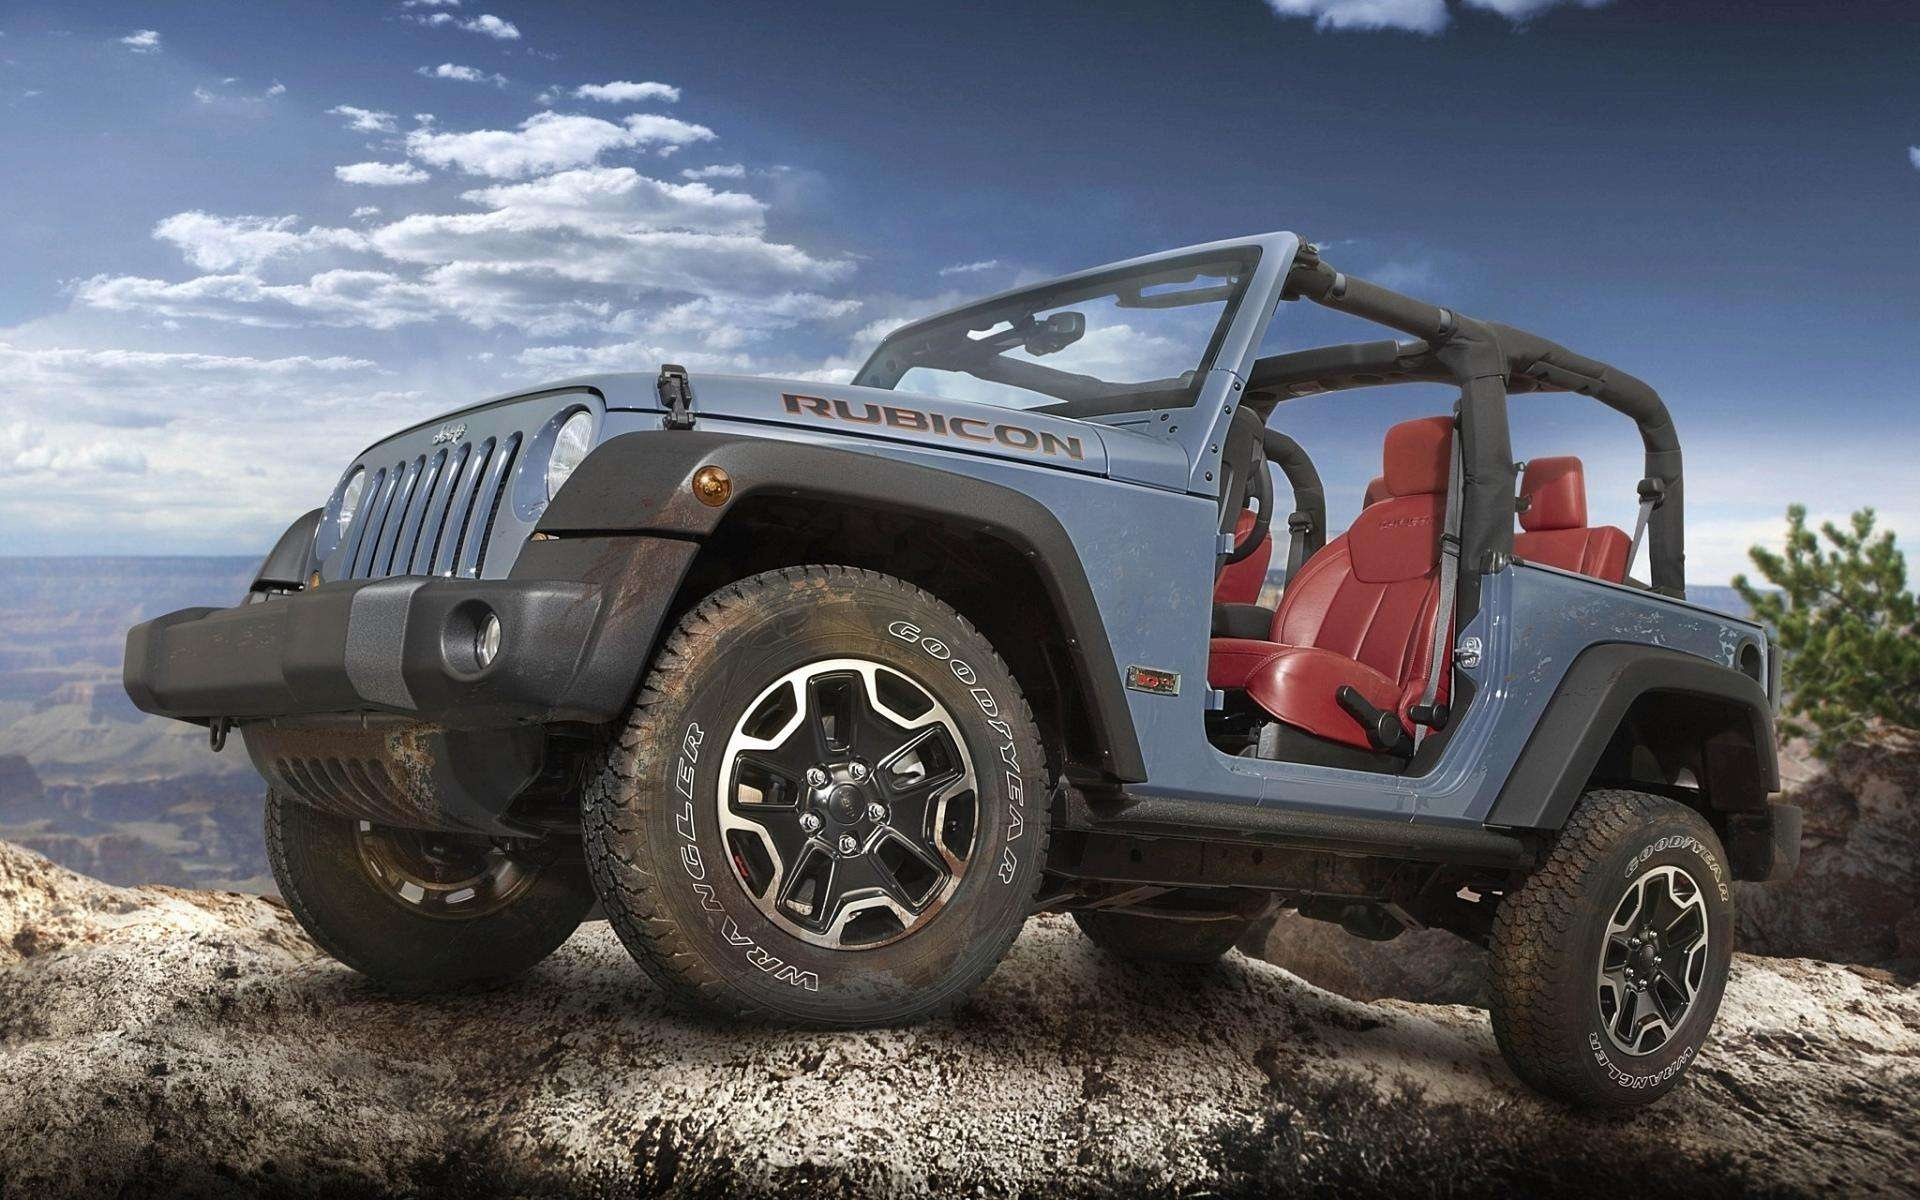jeep: (156, 165, 1769, 1114)
